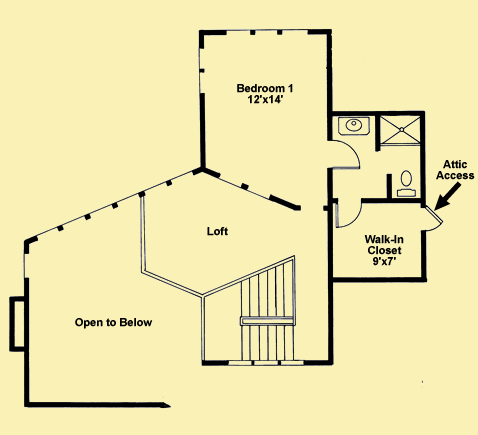door: (326, 138, 364, 172), (333, 198, 362, 229), (418, 206, 444, 233)
large_sink: (395, 166, 419, 201)
small_sink: (335, 115, 372, 140)
stairs: (202, 252, 297, 366)
